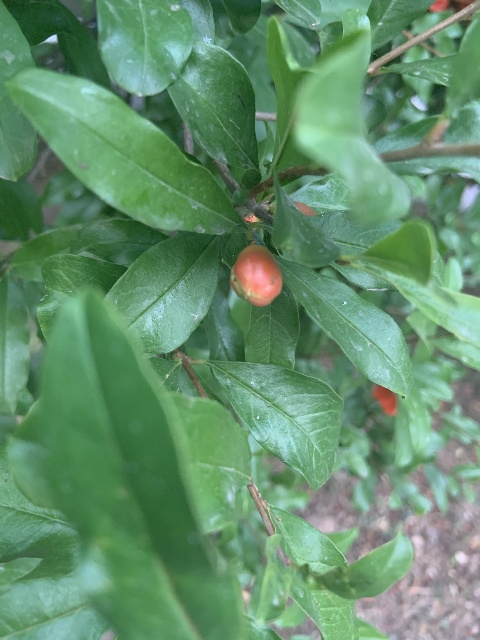bud: (232, 244, 282, 306)
